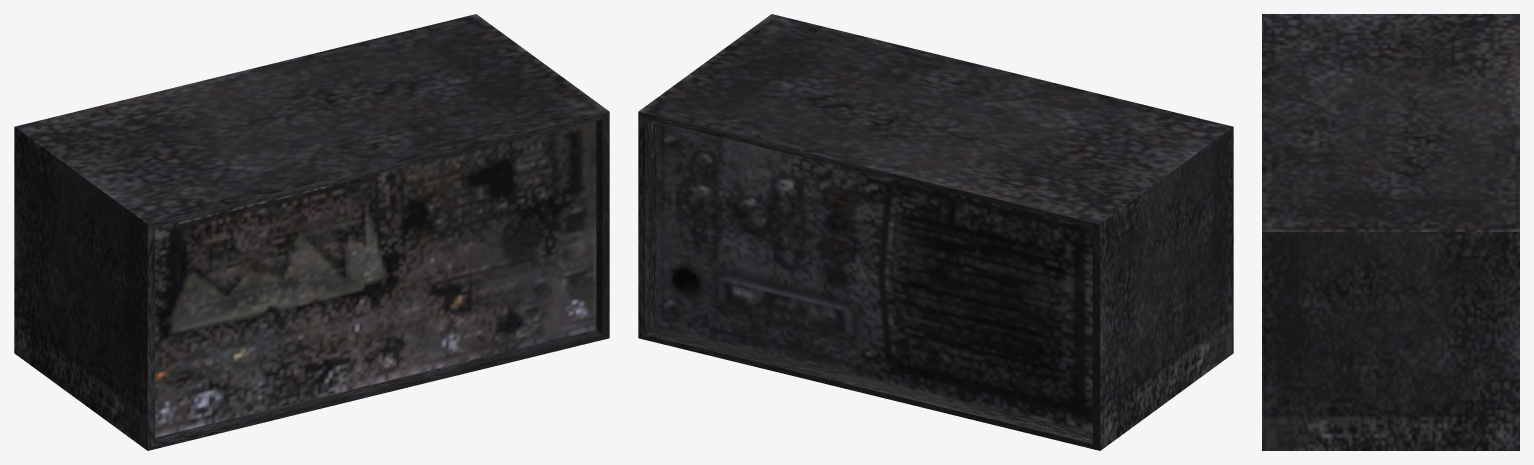
Rendered from Radio03x.glb.
3 renders of one model, left to right at view 1: azimuth 30°, elevation 25°; view 2: azimuth 150°, elevation 25°; view 3: azimuth 270°, elevation 25°, orthographic. The views are drawn at different scales.
Parts seen in each view (by area): view 1: _Radio03x; view 2: _Radio03x; view 3: _Radio03x.
Boxes of the visible parts, x1=… form: _Radio03x: x1=14, y1=14, x2=609, y2=450; _Radio03x: x1=638, y1=14, x2=1233, y2=450; _Radio03x: x1=1262, y1=14, x2=1519, y2=450.
Bounding box in the file's own units: 0.735 × 0.3447 × 0.3675.
1 material, 1 textured.
